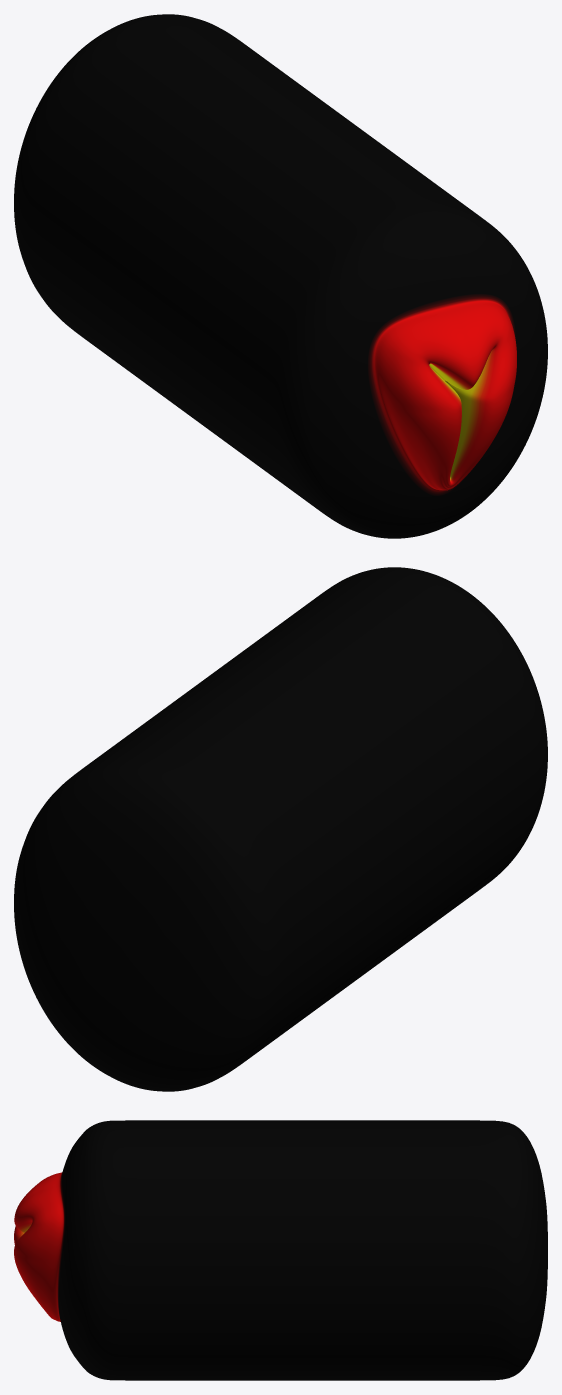
The model's file is Poche_Canine.fbx.
3 renders of one model, top to bottom at view 1: azimuth 30°, elevation 25°; view 2: azimuth 150°, elevation 25°; view 3: azimuth 270°, elevation 25°, orthographic. The views are drawn at different scales.
Visible parts, largest first — view 1: Poche_Canine; view 2: Poche_Canine; view 3: Poche_Canine.
Boxes of the visible parts, x1,y1,x2,y2 form: Poche_Canine: (14,14,547,538); Poche_Canine: (14,567,547,1091); Poche_Canine: (14,1120,547,1380).
Size of the model in its own units: 0.1099 by 0.1299 by 0.2599.
